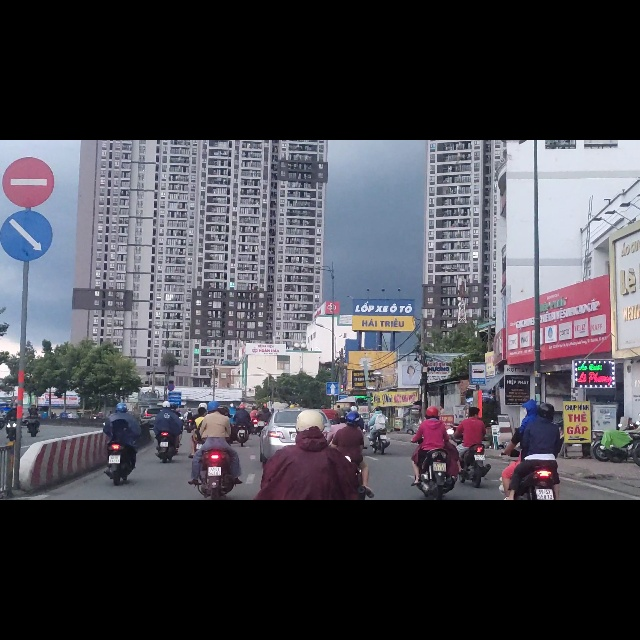bien_hieu_lenh: (1, 15, 57, 122), (0, 125, 53, 215), (469, 394, 486, 437), (326, 428, 340, 454)
